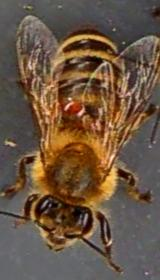varroa_mite: (49, 91, 88, 127)
